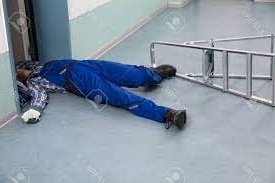fall: (9, 48, 190, 133)
